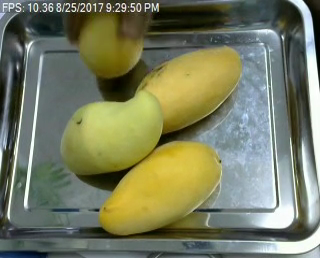Mango: (98, 139, 222, 235), (135, 47, 244, 133), (58, 90, 162, 174), (76, 6, 144, 78)
